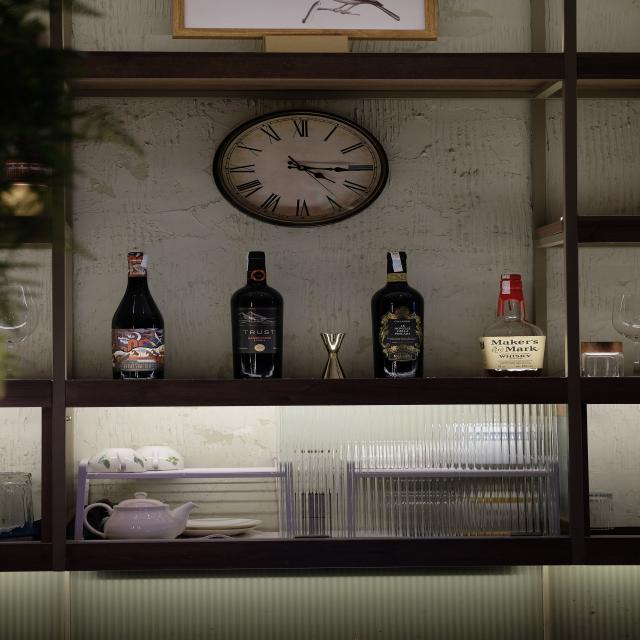Bottle: (480, 275, 545, 377), (231, 252, 283, 378), (112, 253, 164, 379), (372, 252, 423, 378)
